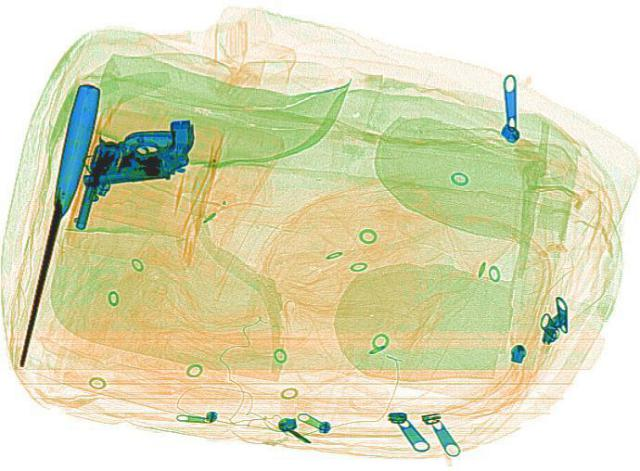Gun: (64, 118, 178, 237), (69, 116, 203, 187)
Knife: (5, 82, 104, 367)
